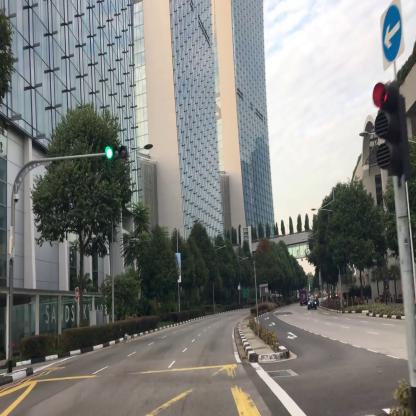green_traffic_light: (106, 146, 127, 157)
